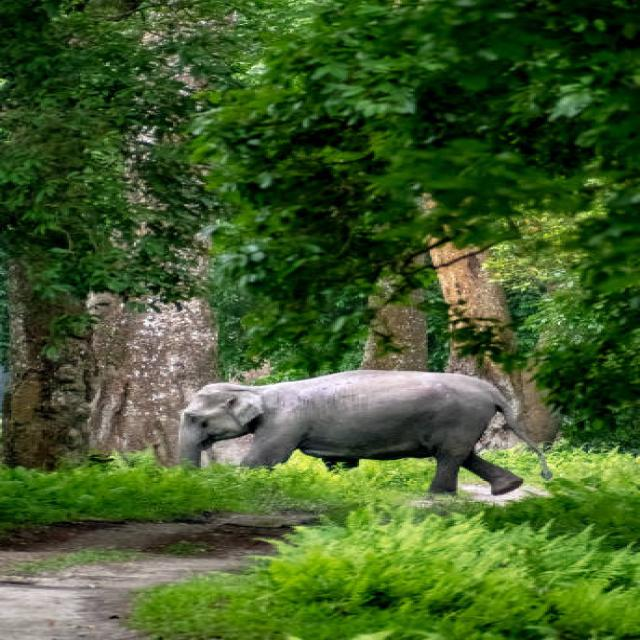Elephant: (156, 352, 536, 510)
